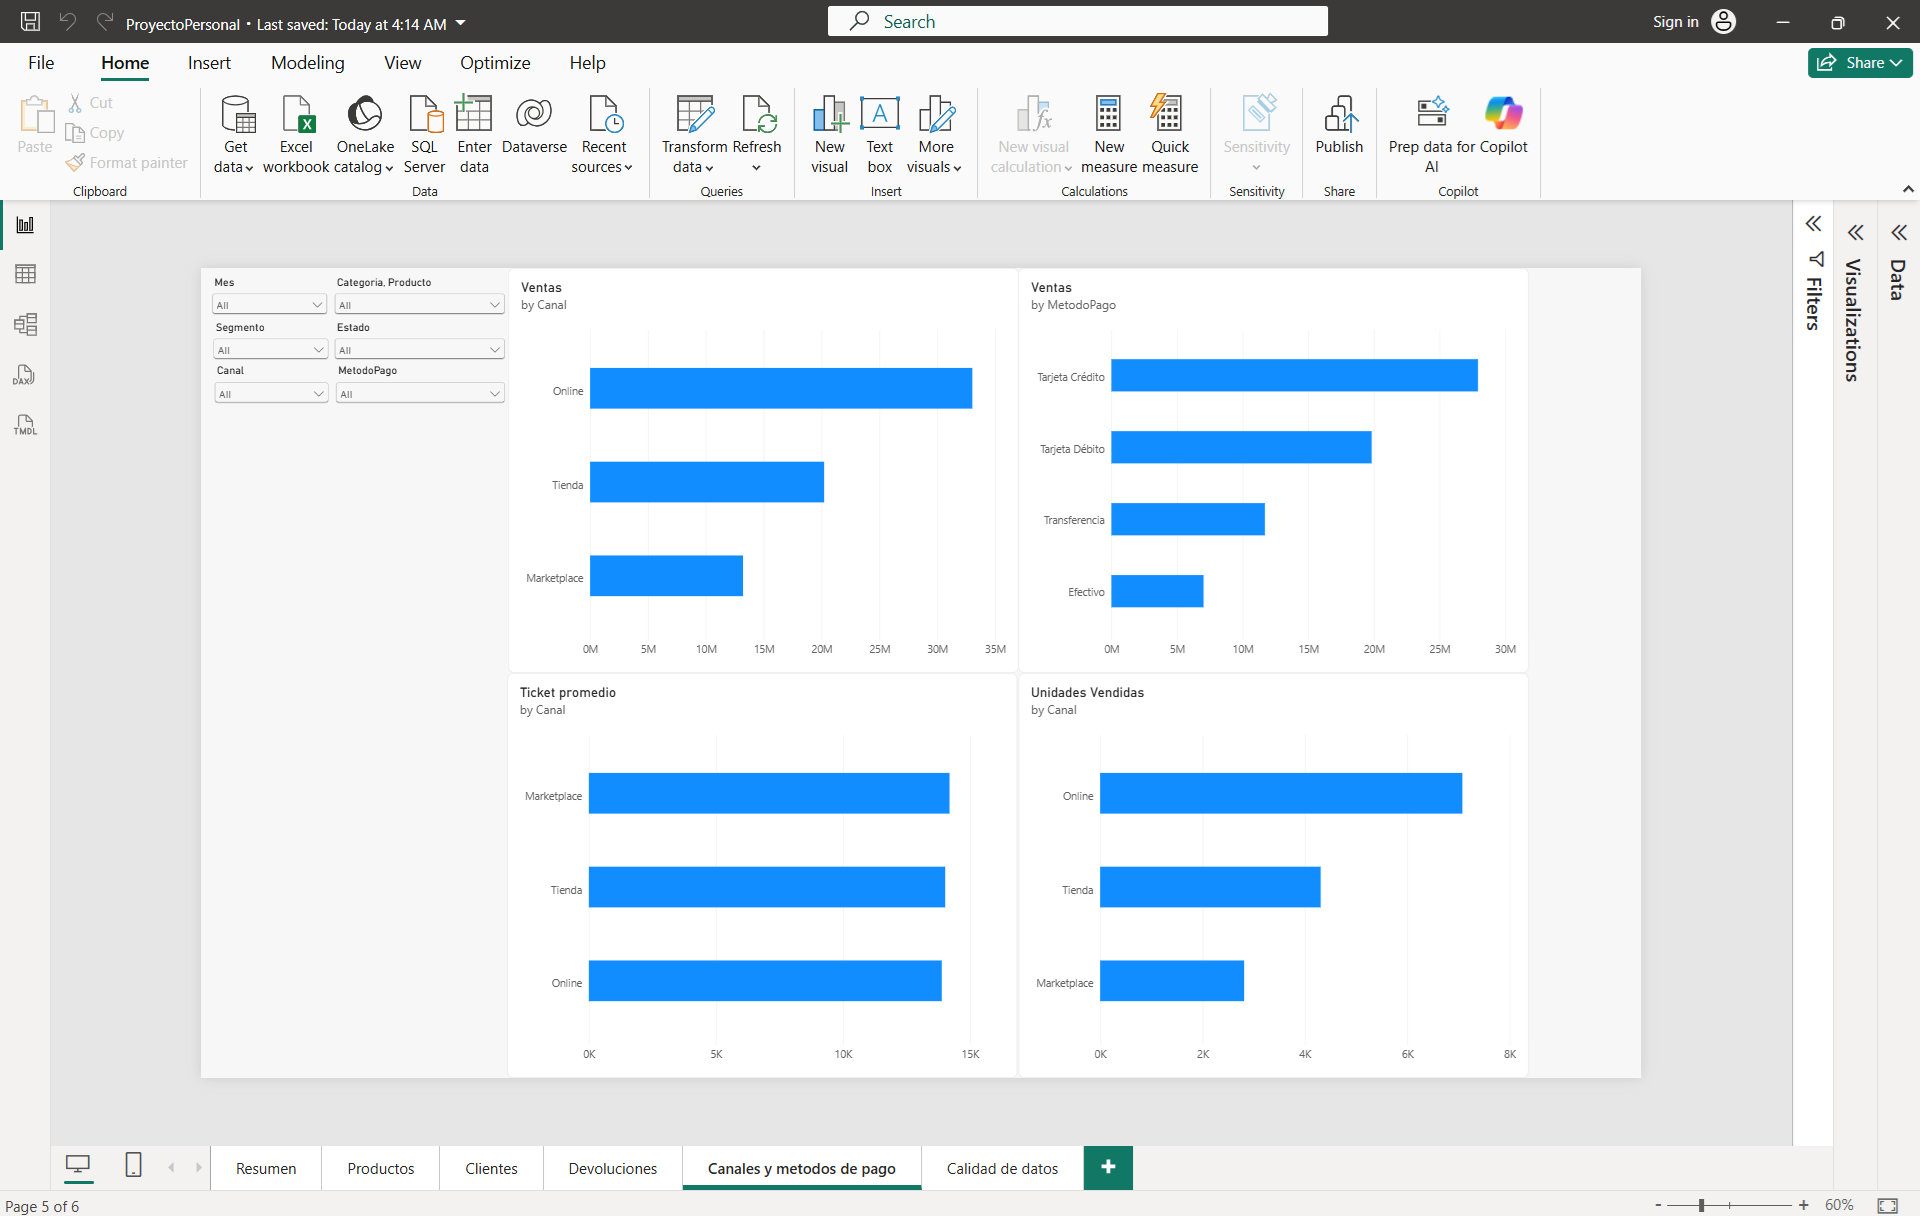

Layout of this report page (visuals, bound fields, positions):
{"tool":"powerbi","page":{"name":"Canales y metodos de pago","canvas":[1920,1080],"ordinal":4},"visuals":[{"type":"clusteredBarChart","fields":{"Category":["VentasLimpias.Canal"],"Y":["VentasLimpias.Unidades Vendidas dinamicas"]},"box":[1090,540,680,540],"z":0},{"type":"clusteredBarChart","fields":{"Category":["VentasLimpias.Canal"],"Y":["VentasLimpias.Ticket promedio dinamico"]},"box":[408,540,680,540],"z":1000},{"type":"clusteredBarChart","fields":{"Category":["VentasLimpias.Canal"],"Y":["VentasLimpias.Ventas Dinamicas"]},"box":[410,0,680,540],"z":2000},{"type":"clusteredBarChart","fields":{"Category":["VentasLimpias.MetodoPago"],"Y":["VentasLimpias.Ventas Dinamicas"]},"box":[1090,0,680,540],"z":3000},{"type":"group","id":"g1","title":"Group 1","box":[10,10,400,280],"z":4000},{"type":"slicer","fields":{"Values":["Productos.Categoria","Productos.Producto"]},"box":[172.8,10,236.7,115],"z":5000,"group":"g1"},{"type":"slicer","fields":{"Values":["ClientesLimpios.Estado"]},"box":[172.8,70,236.7,95],"z":6000,"group":"g1"},{"type":"slicer","fields":{"Values":["ClientesLimpios.Segmento"]},"box":[11.1,70,163.3,220],"z":7000,"group":"g1"},{"type":"slicer","fields":{"Values":["VentasLimpias.Mes"]},"box":[10,10,163.3,81.1],"z":8000,"group":"g1"},{"type":"slicer","fields":{"Values":["VentasLimpias.Canal"]},"box":[12.8,128.3,161.7,150],"z":9000,"group":"g1"},{"type":"slicer","fields":{"Values":["VentasLimpias.MetodoPago"]},"box":[174.4,128.3,235,75],"z":10000,"group":"g1"}]}

Visuals, with their boxes on the page's 1920x1080 design canvas (x1, y1, x2, y2). These are canvas units, not pixel positions in the 1920x1216 screenshot, which may show the page scaled, cropped or inside an application window:
clusteredBarChart - VentasLimpias.Canal x VentasLimpias.Unidades Vendidas dinamicas: (1090,540,1770,1080)
clusteredBarChart - VentasLimpias.Canal x VentasLimpias.Ticket promedio dinamico: (408,540,1088,1080)
clusteredBarChart - VentasLimpias.Canal x VentasLimpias.Ventas Dinamicas: (410,0,1090,540)
clusteredBarChart - VentasLimpias.MetodoPago x VentasLimpias.Ventas Dinamicas: (1090,0,1770,540)
"Group 1" group: (10,10,410,290)
slicer - Productos.Categoria x Productos.Producto: (173,10,410,125)
slicer - ClientesLimpios.Estado: (173,70,410,165)
slicer - ClientesLimpios.Segmento: (11,70,174,290)
slicer - VentasLimpias.Mes: (10,10,173,91)
slicer - VentasLimpias.Canal: (13,128,174,278)
slicer - VentasLimpias.MetodoPago: (174,128,409,203)
